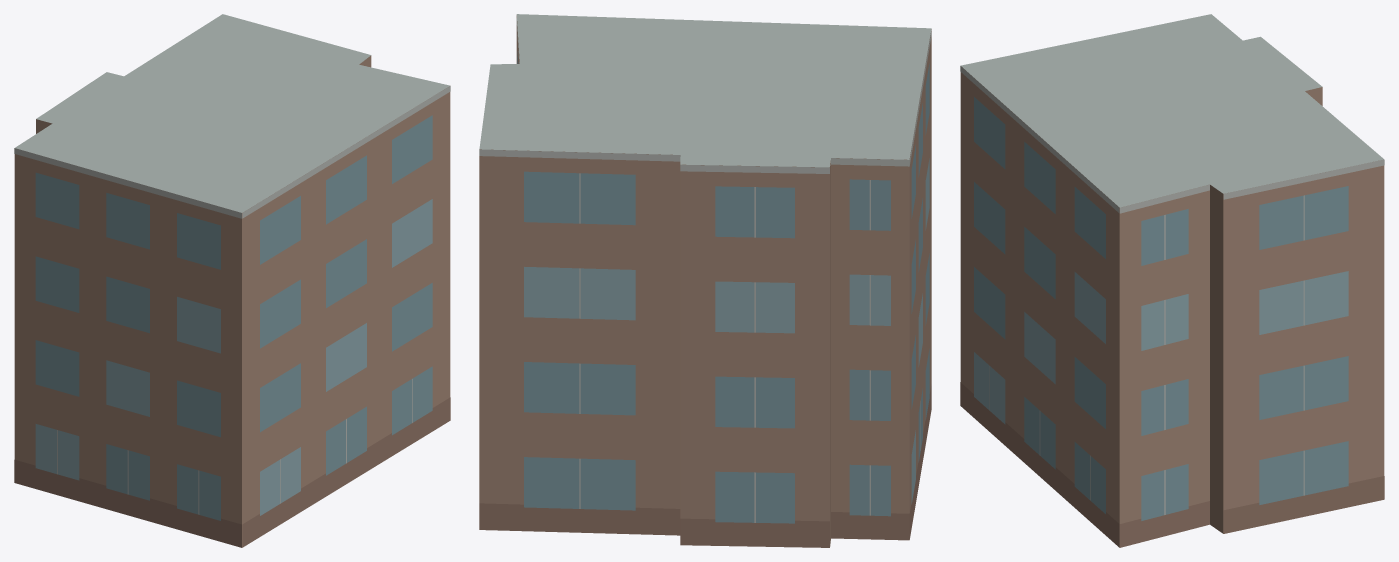
File: survey-upis-32739919.glb
The picture shows the model from 3 angles, left to right: view 1: azimuth 30°, elevation 25°; view 2: azimuth 150°, elevation 25°; view 3: azimuth 270°, elevation 25°; orthographic projection. The views are drawn at different scales.
Visible parts, largest first — view 1: survey-upis-32739919.tmp; view 2: survey-upis-32739919.tmp; view 3: survey-upis-32739919.tmp.
Boxes of the visible parts, left/top/right/bottom form: survey-upis-32739919.tmp: left=14, top=14, right=450, bottom=547; survey-upis-32739919.tmp: left=479, top=14, right=931, bottom=547; survey-upis-32739919.tmp: left=960, top=14, right=1384, bottom=547.
Size of the model in its own units: 16.99 by 13.9 by 15.71.
